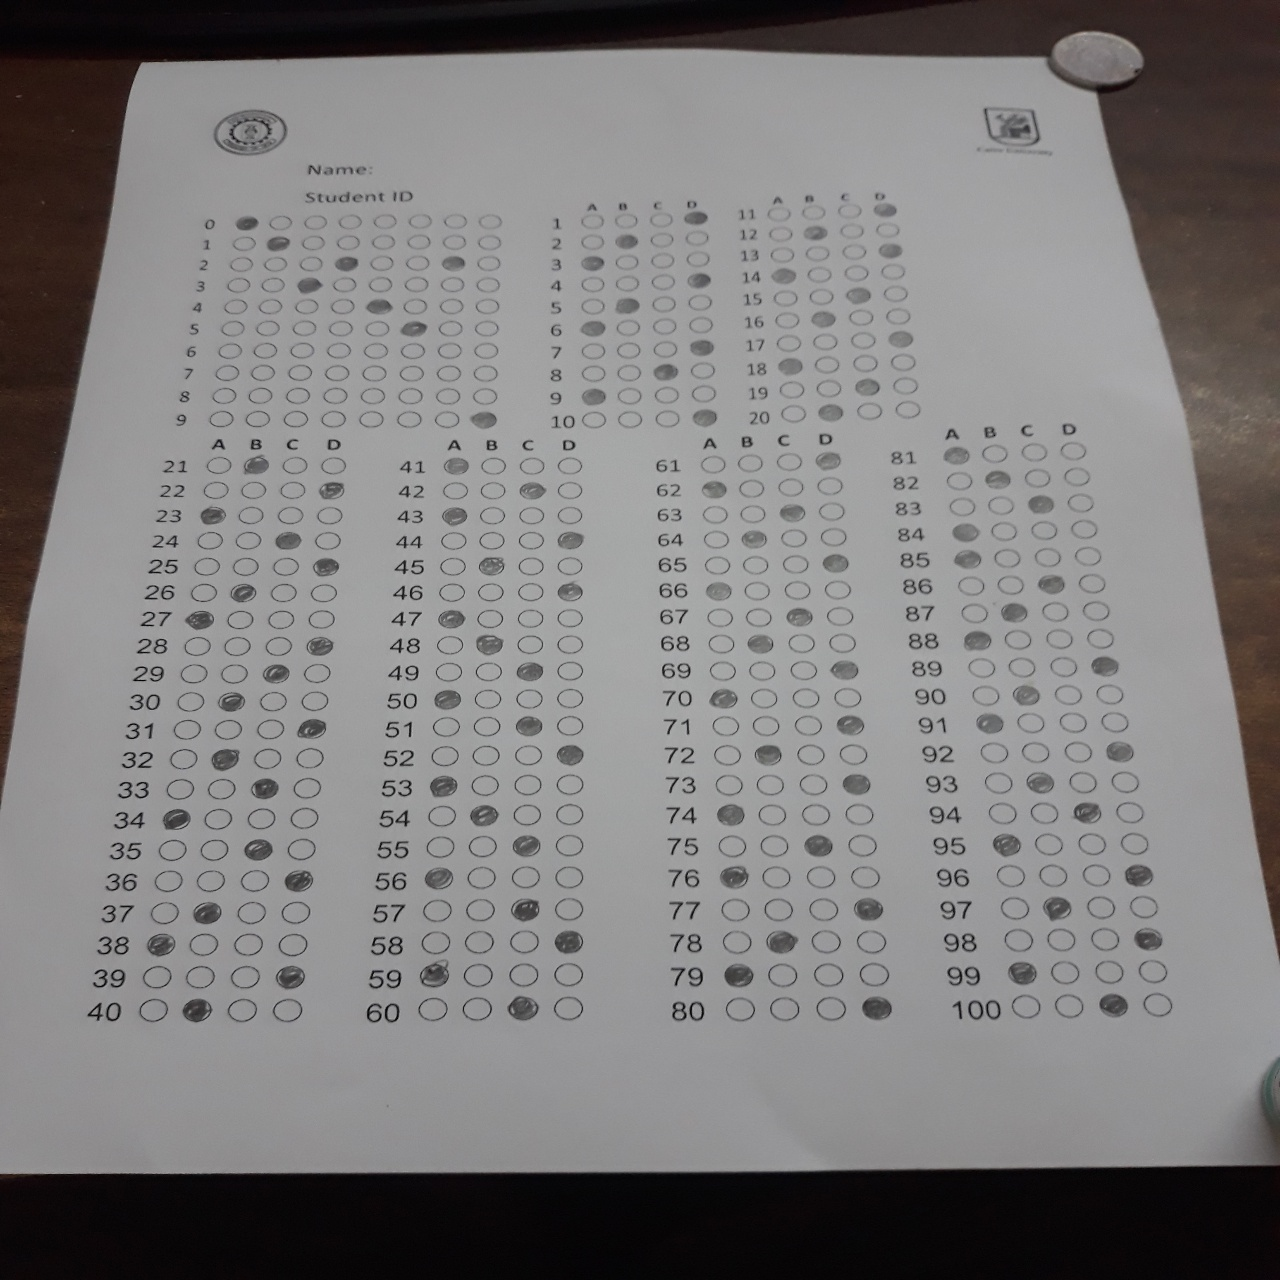not-c: (804, 862, 836, 892), (1141, 990, 1176, 1017), (726, 995, 760, 1020), (1009, 993, 1043, 1017), (1053, 993, 1087, 1017), (166, 745, 200, 769), (508, 930, 542, 953), (554, 864, 588, 887), (742, 579, 772, 605), (832, 685, 864, 709), (844, 801, 876, 825), (758, 863, 790, 887), (764, 898, 796, 922), (293, 745, 326, 769), (203, 775, 236, 798), (292, 776, 325, 799), (196, 838, 229, 862), (284, 836, 316, 859), (239, 869, 272, 892), (229, 964, 261, 987), (465, 863, 498, 886), (469, 772, 502, 796), (513, 770, 546, 794), (513, 742, 546, 765), (428, 742, 461, 765), (554, 660, 587, 683), (472, 659, 505, 682), (753, 772, 785, 796), (799, 801, 832, 824), (849, 864, 881, 887), (1080, 598, 1112, 621), (508, 961, 542, 983), (198, 869, 230, 892), (188, 933, 219, 956), (225, 998, 257, 1021), (465, 931, 497, 954), (421, 898, 452, 921), (512, 802, 544, 825), (513, 687, 545, 710), (554, 714, 586, 737), (751, 713, 783, 736), (709, 713, 741, 736), (792, 742, 824, 765), (798, 772, 830, 796), (757, 803, 789, 826), (809, 896, 840, 919), (721, 897, 753, 920), (721, 930, 753, 953), (857, 930, 888, 953), (1092, 960, 1124, 983), (1129, 896, 1160, 919), (1081, 863, 1112, 886), (1115, 801, 1146, 824), (1109, 769, 1141, 792), (1068, 768, 1099, 791), (986, 801, 1017, 824), (1058, 708, 1090, 731), (1076, 570, 1108, 593), (164, 777, 197, 799), (290, 806, 322, 829), (158, 839, 191, 862), (154, 870, 186, 892), (236, 900, 268, 922), (277, 932, 309, 954), (234, 932, 267, 954), (141, 966, 173, 988), (137, 998, 170, 1020), (270, 999, 302, 1021), (463, 964, 496, 986), (421, 931, 454, 953), (465, 899, 498, 921), (552, 897, 585, 919), (509, 864, 542, 886), (556, 833, 588, 856), (468, 835, 501, 857), (551, 802, 584, 824), (556, 772, 588, 795), (471, 743, 504, 765), (429, 716, 462, 738), (472, 687, 505, 709), (554, 687, 587, 709), (713, 744, 745, 767), (712, 771, 744, 794), (792, 714, 823, 737), (1138, 959, 1169, 982), (1049, 960, 1080, 983), (1118, 831, 1149, 855), (1035, 831, 1065, 855), (1037, 863, 1068, 886), (994, 863, 1024, 886), (1030, 801, 1061, 824), (983, 770, 1014, 794), (1022, 738, 1053, 762), (252, 745, 284, 768), (245, 806, 277, 829), (183, 965, 215, 987), (416, 996, 448, 1019), (554, 962, 586, 985), (424, 803, 456, 825), (469, 715, 501, 737), (838, 743, 870, 765), (846, 832, 878, 855), (760, 832, 791, 855), (717, 835, 749, 857), (859, 961, 891, 983), (811, 962, 843, 985), (1046, 928, 1077, 951), (1087, 896, 1118, 918), (1000, 897, 1032, 919), (1099, 709, 1131, 731), (1095, 682, 1126, 704), (202, 806, 234, 828), (461, 998, 493, 1019), (552, 996, 585, 1017), (425, 835, 458, 856), (811, 928, 842, 951), (1003, 928, 1034, 951), (1090, 928, 1121, 951), (1078, 832, 1109, 855), (978, 741, 1008, 763), (1065, 737, 1096, 760), (995, 573, 1026, 595), (149, 903, 181, 924), (280, 901, 312, 922), (556, 554, 586, 576), (765, 962, 796, 983), (769, 996, 799, 1017), (815, 998, 845, 1019), (515, 554, 544, 576), (516, 527, 545, 549), (699, 452, 728, 474), (702, 527, 731, 549), (828, 631, 857, 652), (279, 481, 309, 501), (229, 554, 259, 574), (232, 529, 263, 549), (184, 635, 215, 655), (263, 636, 293, 656), (177, 690, 207, 710), (300, 690, 331, 710), (435, 633, 465, 653), (476, 580, 506, 600), (556, 481, 586, 501), (477, 454, 508, 474), (776, 451, 806, 471), (815, 474, 845, 493), (813, 501, 844, 520), (781, 526, 811, 546), (700, 503, 730, 523), (779, 552, 810, 572), (707, 659, 737, 679), (788, 660, 818, 680), (1068, 493, 1098, 513), (192, 556, 222, 576), (197, 529, 226, 549), (268, 583, 298, 602), (227, 610, 257, 629), (305, 663, 334, 683), (215, 719, 244, 738), (260, 690, 290, 710), (434, 661, 463, 681), (477, 607, 506, 627), (516, 610, 545, 629), (517, 634, 546, 654), (557, 634, 586, 654), (554, 607, 584, 627), (517, 580, 546, 600), (436, 583, 465, 602), (477, 529, 506, 549), (440, 530, 469, 550), (478, 504, 508, 524), (516, 505, 545, 525), (557, 504, 586, 524), (441, 481, 470, 501), (518, 454, 547, 474), (554, 454, 584, 474), (736, 452, 765, 472), (738, 503, 768, 523), (738, 477, 768, 497), (742, 554, 771, 574), (782, 579, 811, 599), (823, 579, 852, 599), (745, 605, 775, 625), (825, 605, 855, 625), (785, 632, 815, 652), (709, 633, 738, 653), (745, 661, 775, 681), (791, 686, 821, 706), (750, 688, 779, 708), (956, 576, 986, 595), (1058, 440, 1088, 459), (313, 531, 343, 550), (188, 583, 218, 601), (266, 610, 297, 628), (222, 635, 252, 654), (962, 601, 989, 622), (222, 663, 250, 683), (256, 719, 284, 738), (440, 556, 468, 576), (479, 478, 508, 498), (778, 475, 806, 495), (819, 525, 847, 545), (703, 554, 731, 574), (704, 606, 733, 626), (239, 481, 268, 499), (272, 557, 301, 576), (309, 583, 339, 601), (307, 608, 336, 627), (181, 663, 210, 682), (172, 720, 202, 738), (995, 547, 1024, 566), (1030, 520, 1060, 539), (988, 520, 1017, 539), (988, 496, 1017, 515), (1023, 469, 1053, 488), (1062, 468, 1091, 486), (945, 471, 974, 490), (948, 497, 978, 516), (979, 442, 1008, 461), (1056, 685, 1083, 704), (972, 685, 999, 704), (968, 658, 995, 678), (1009, 658, 1036, 678), (1049, 656, 1076, 676), (1046, 627, 1073, 647), (1088, 628, 1115, 648), (1005, 627, 1032, 647), (1042, 600, 1069, 620), (1068, 520, 1098, 538), (1073, 545, 1101, 564), (1017, 442, 1046, 461), (835, 200, 864, 218), (470, 386, 499, 403), (1033, 546, 1062, 564), (1017, 712, 1043, 731), (840, 241, 869, 259), (843, 264, 871, 281), (805, 243, 833, 260), (799, 203, 828, 220), (768, 223, 796, 240), (769, 245, 797, 263), (771, 290, 799, 307), (771, 311, 799, 328), (897, 400, 925, 417), (855, 401, 883, 418), (781, 380, 809, 397), (686, 292, 714, 309), (647, 250, 675, 267), (649, 316, 678, 334), (653, 384, 681, 402), (614, 272, 642, 290), (474, 256, 502, 273), (472, 365, 501, 382), (367, 275, 395, 293), (286, 387, 314, 404), (293, 320, 321, 338), (215, 365, 243, 382), (224, 277, 252, 294), (811, 355, 840, 372), (613, 253, 642, 270), (396, 387, 425, 403), (360, 342, 389, 359), (286, 365, 315, 381), (267, 215, 297, 231), (257, 298, 286, 314), (202, 483, 231, 499), (874, 222, 903, 238), (879, 263, 907, 279), (839, 222, 867, 238), (881, 284, 910, 300), (806, 264, 835, 280), (764, 205, 792, 222), (806, 288, 835, 305), (884, 307, 912, 324), (850, 332, 878, 348), (850, 354, 878, 370), (893, 377, 921, 394), (815, 380, 843, 396), (782, 406, 810, 422), (690, 361, 719, 377), (649, 210, 678, 226), (683, 227, 712, 244), (646, 231, 674, 247), (649, 294, 678, 311), (651, 341, 679, 358), (653, 409, 681, 425), (614, 387, 642, 403), (581, 365, 610, 381), (580, 342, 608, 359), (615, 341, 644, 358), (612, 210, 640, 226), (578, 297, 606, 313), (579, 211, 607, 227), (580, 231, 608, 247), (579, 273, 607, 290), (476, 213, 504, 230), (476, 234, 504, 251), (475, 275, 503, 292), (474, 299, 502, 315), (472, 320, 501, 336), (472, 342, 501, 359), (433, 387, 461, 403), (435, 365, 463, 381), (404, 275, 433, 292), (437, 318, 465, 334), (441, 232, 469, 248), (441, 211, 469, 227), (408, 211, 436, 227), (407, 232, 435, 248), (404, 253, 433, 270), (403, 297, 431, 313), (402, 341, 430, 358), (361, 387, 389, 403), (372, 233, 400, 250), (338, 212, 366, 229), (327, 319, 355, 335), (324, 365, 352, 381), (320, 388, 348, 404), (322, 411, 350, 428), (300, 213, 328, 230), (263, 256, 291, 272), (260, 275, 288, 292), (254, 320, 282, 336), (253, 341, 281, 358), (248, 387, 277, 403), (245, 409, 273, 425), (210, 386, 238, 402), (220, 320, 248, 336), (223, 298, 251, 314), (205, 457, 233, 474), (281, 457, 309, 474), (320, 456, 348, 472), (687, 316, 716, 332), (441, 275, 470, 291), (372, 213, 401, 229), (300, 234, 329, 250), (226, 254, 256, 270), (316, 508, 346, 523), (813, 333, 840, 349), (888, 355, 915, 372), (651, 273, 678, 290), (617, 365, 644, 381), (617, 318, 644, 334), (365, 319, 392, 335), (338, 232, 365, 248), (331, 297, 358, 313), (290, 341, 316, 358), (846, 309, 874, 325), (774, 335, 802, 350), (686, 248, 714, 264), (617, 411, 645, 427), (580, 411, 608, 427), (436, 343, 464, 359), (396, 365, 424, 380), (396, 410, 424, 425), (360, 363, 388, 379), (370, 254, 399, 270), (331, 275, 359, 291), (325, 342, 353, 358), (281, 410, 309, 425), (293, 297, 321, 312), (248, 365, 277, 380), (207, 410, 236, 425), (217, 342, 245, 358), (230, 234, 258, 250), (234, 508, 263, 523), (692, 383, 719, 399), (433, 411, 459, 427), (440, 297, 467, 312), (358, 411, 384, 427), (297, 256, 324, 271), (275, 508, 302, 523)
taken-c: (722, 960, 756, 988), (860, 993, 894, 1021), (1007, 956, 1041, 985), (1040, 894, 1074, 922), (1098, 990, 1131, 1019), (1132, 924, 1166, 951), (1121, 862, 1155, 887), (990, 831, 1024, 857), (1024, 769, 1058, 795), (1103, 738, 1137, 763), (162, 806, 195, 831), (274, 964, 307, 988), (468, 803, 501, 828), (433, 687, 465, 712), (1073, 799, 1105, 824), (975, 710, 1008, 735), (147, 932, 178, 956), (553, 930, 585, 954), (510, 897, 542, 921), (429, 774, 461, 798), (553, 742, 585, 767), (513, 714, 545, 738), (515, 659, 546, 683), (248, 776, 281, 799), (241, 838, 274, 862), (282, 867, 315, 891), (181, 998, 213, 1021), (418, 964, 451, 987), (1088, 653, 1121, 676), (1037, 572, 1070, 595), (982, 467, 1015, 490), (191, 899, 223, 922), (508, 996, 539, 1020), (425, 866, 457, 890), (511, 833, 543, 857), (802, 833, 835, 856), (851, 897, 884, 919), (764, 930, 797, 952), (964, 628, 996, 651), (953, 546, 986, 568), (949, 520, 982, 543), (940, 443, 973, 465), (210, 748, 241, 770), (717, 865, 749, 887), (1012, 683, 1044, 704), (999, 601, 1032, 622), (1024, 493, 1057, 515), (297, 717, 328, 738), (554, 529, 586, 550), (516, 479, 547, 501), (699, 478, 730, 499), (813, 449, 845, 470), (738, 529, 770, 550), (821, 552, 852, 573), (304, 635, 334, 656), (437, 607, 468, 628), (554, 581, 585, 602), (477, 554, 508, 576), (778, 501, 809, 522), (785, 606, 816, 627), (703, 579, 734, 600), (744, 633, 775, 654), (829, 658, 859, 679), (707, 688, 737, 709), (753, 744, 783, 765), (835, 714, 865, 735), (840, 772, 871, 794), (715, 804, 745, 825), (263, 662, 292, 683), (474, 633, 503, 654), (217, 692, 247, 712), (440, 505, 469, 525), (316, 481, 346, 501), (311, 556, 340, 576), (185, 610, 215, 629), (198, 506, 229, 525), (272, 531, 302, 550), (229, 583, 257, 602), (241, 455, 271, 474), (333, 254, 363, 272), (802, 224, 831, 241), (469, 410, 498, 428), (399, 320, 428, 338), (442, 457, 471, 475), (877, 241, 905, 259), (770, 266, 798, 284), (809, 309, 837, 327), (886, 331, 914, 348), (852, 377, 880, 395), (775, 358, 803, 375), (689, 338, 717, 355), (685, 272, 713, 290), (365, 297, 393, 314), (295, 275, 324, 293), (440, 254, 468, 272), (816, 404, 845, 421), (871, 200, 899, 217), (844, 286, 872, 302), (651, 363, 679, 380), (265, 234, 293, 251), (580, 319, 606, 336), (680, 210, 709, 225), (692, 409, 719, 425), (580, 388, 607, 404), (233, 215, 261, 230), (615, 297, 641, 313), (613, 232, 639, 248), (580, 254, 606, 270)
